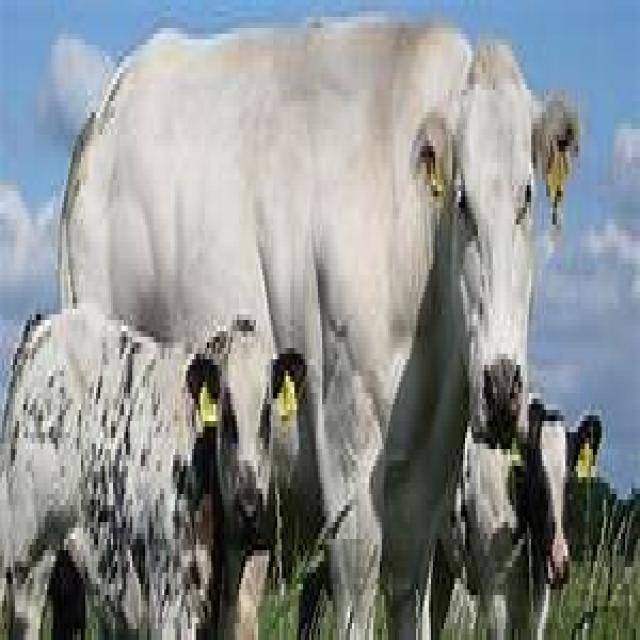cow: (64, 22, 576, 640), (0, 309, 277, 640)
